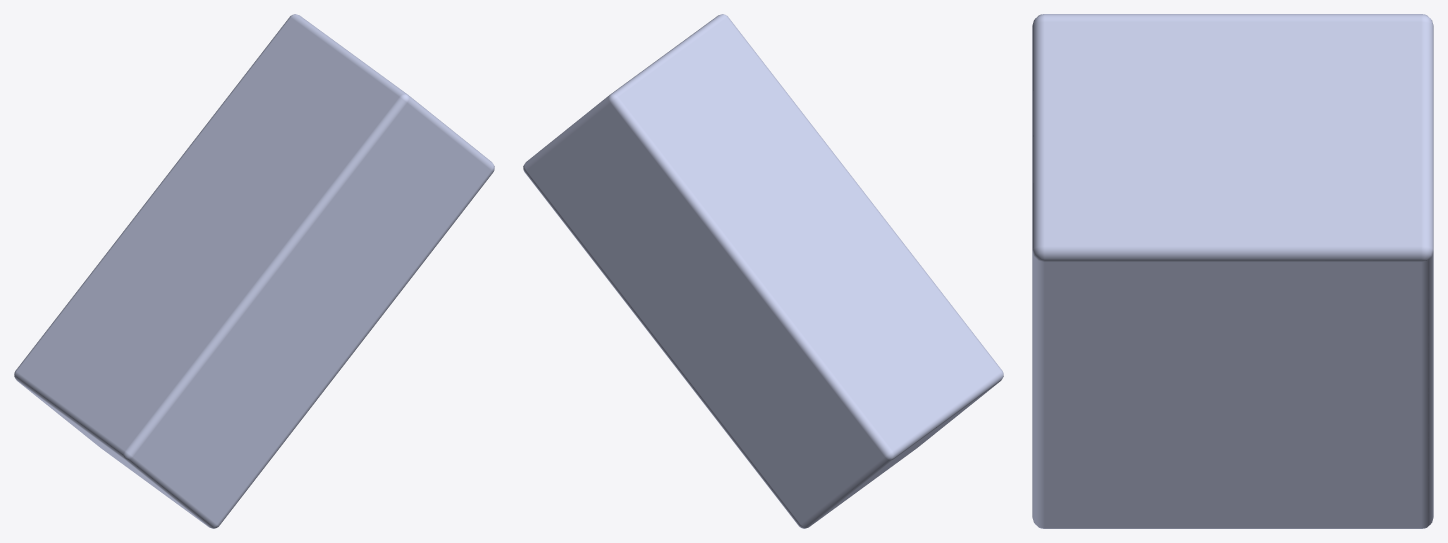
Rendered from body102_visual.obj.
3 views of the same model, side by side, from view 1: azimuth 30°, elevation 25°; view 2: azimuth 150°, elevation 25°; view 3: azimuth 270°, elevation 25° (orthographic). The views are drawn at different scales.
Visible parts, largest first — view 1: Body102; view 2: Body102; view 3: Body102.
Part boxes in pixels (x1=…): Body102: x1=14, y1=14, x2=494, y2=528; Body102: x1=523, y1=14, x2=1003, y2=528; Body102: x1=1032, y1=14, x2=1433, y2=528.
Size of the model in its own units: 0.296 by 0.296 by 0.16.
